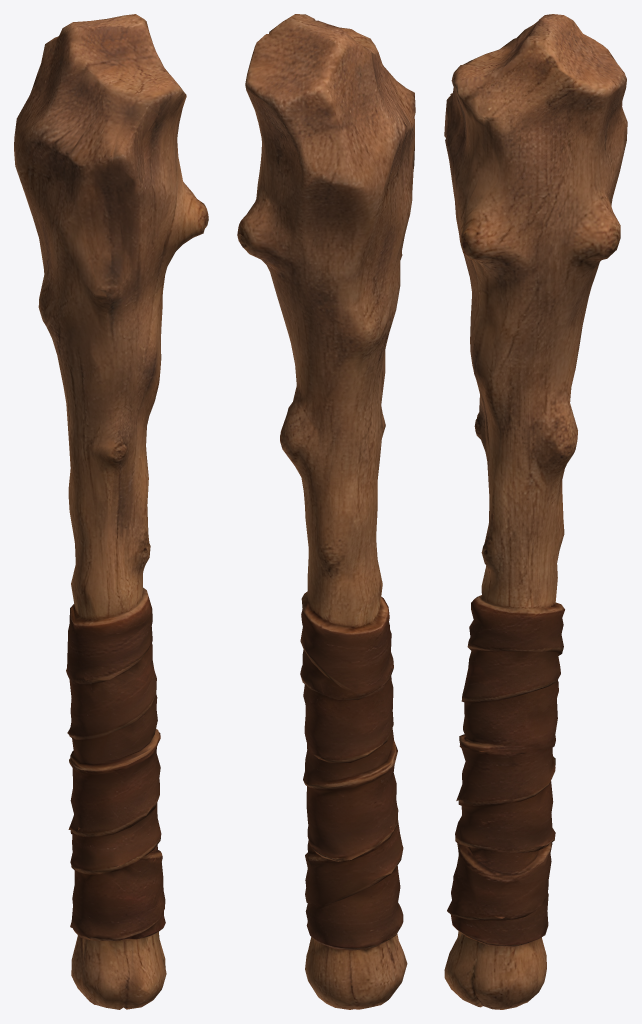
Rendered from wooden club 3d model.glb.
The picture shows the model from 3 angles, left to right: view 1: azimuth 30°, elevation 25°; view 2: azimuth 150°, elevation 25°; view 3: azimuth 270°, elevation 25°; orthographic projection. The views are drawn at different scales.
Visible parts, largest first — view 1: tripo_node_ca007a29-75f8-4ad7-b275-d0fdfdc1b772; view 2: tripo_node_ca007a29-75f8-4ad7-b275-d0fdfdc1b772; view 3: tripo_node_ca007a29-75f8-4ad7-b275-d0fdfdc1b772.
Boxes of the visible parts, x1,y1,x2,y2 form: tripo_node_ca007a29-75f8-4ad7-b275-d0fdfdc1b772: [14, 14, 208, 1009]; tripo_node_ca007a29-75f8-4ad7-b275-d0fdfdc1b772: [237, 14, 415, 1009]; tripo_node_ca007a29-75f8-4ad7-b275-d0fdfdc1b772: [444, 14, 627, 1009].
Bounding box in the file's own units: 0.1537 × 0.9795 × 0.1662.
Materials: 1 (1 with a texture image).
